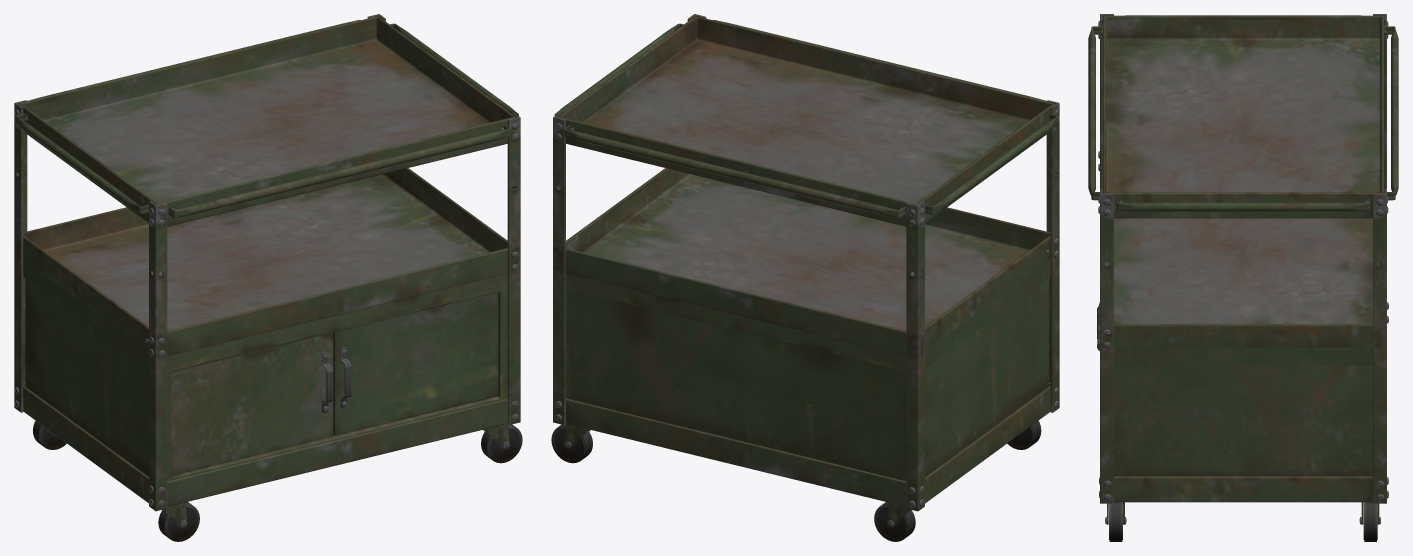
Rendered from detail.fbx.
3 renders of one model, left to right at view 1: azimuth 30°, elevation 25°; view 2: azimuth 150°, elevation 25°; view 3: azimuth 270°, elevation 25°, orthographic.
Parts seen in each view (by area): view 1: industrial_storage_cart; view 2: industrial_storage_cart; view 3: industrial_storage_cart.
Part boxes in pixels (x1,y1,x2,y2): industrial_storage_cart: (14,14,522,541); industrial_storage_cart: (551,14,1059,541); industrial_storage_cart: (1088,14,1398,541).
Bounding box in the file's own units: 160 × 138 × 110.
